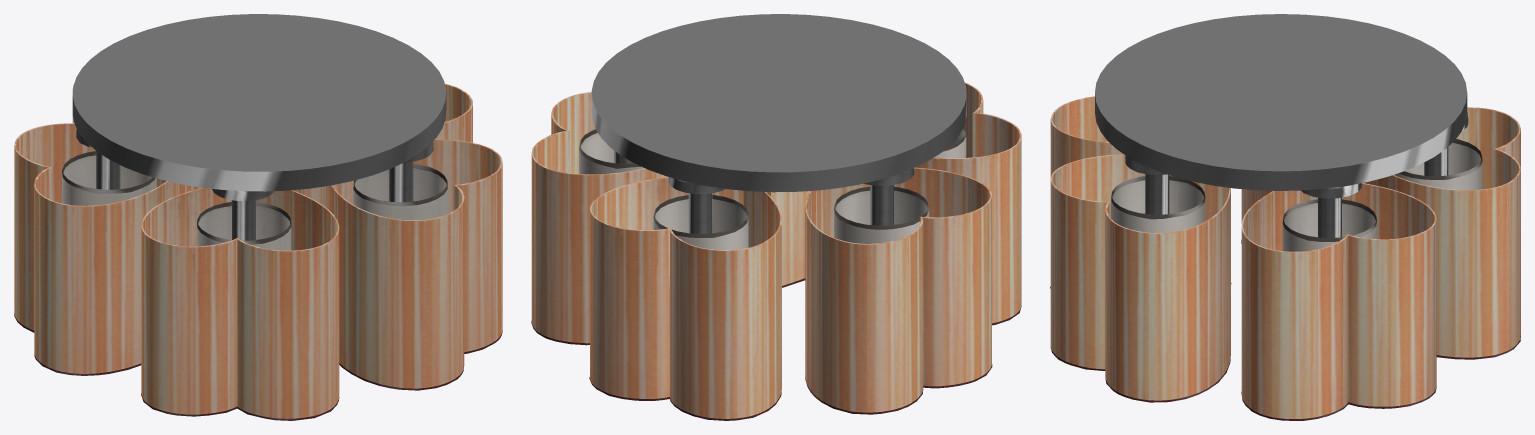
The model's file is raw_model.obj.
The picture shows the model from 3 angles, left to right: view 1: azimuth 30°, elevation 25°; view 2: azimuth 150°, elevation 25°; view 3: azimuth 270°, elevation 25°; orthographic projection.
Parts seen in each view (by area): view 1: glass_001, solid_001, glass_002, solid_005, solid_004; view 2: glass_001, solid_001, glass_002, solid_005, solid_004; view 3: glass_001, solid_001, glass_002, solid_005, solid_004.
Boxes of the visible parts, x1,y1,x2,y2 form: glass_001: (14,83,502,418); solid_001: (72,14,446,240); glass_002: (62,155,447,250); solid_005: (62,151,447,244); solid_004: (14,313,502,420); glass_001: (531,82,1021,418); solid_001: (591,14,966,233); glass_002: (579,129,966,250); solid_005: (579,126,966,237); solid_004: (531,278,1021,420); glass_001: (1050,96,1520,418); solid_001: (1095,14,1468,237); glass_002: (1111,142,1482,251); solid_005: (1111,139,1482,241); solid_004: (1050,240,1520,420).
Bounding box in the file's own units: 0.4517 × 0.2292 × 0.435.
1 material, 1 textured.
